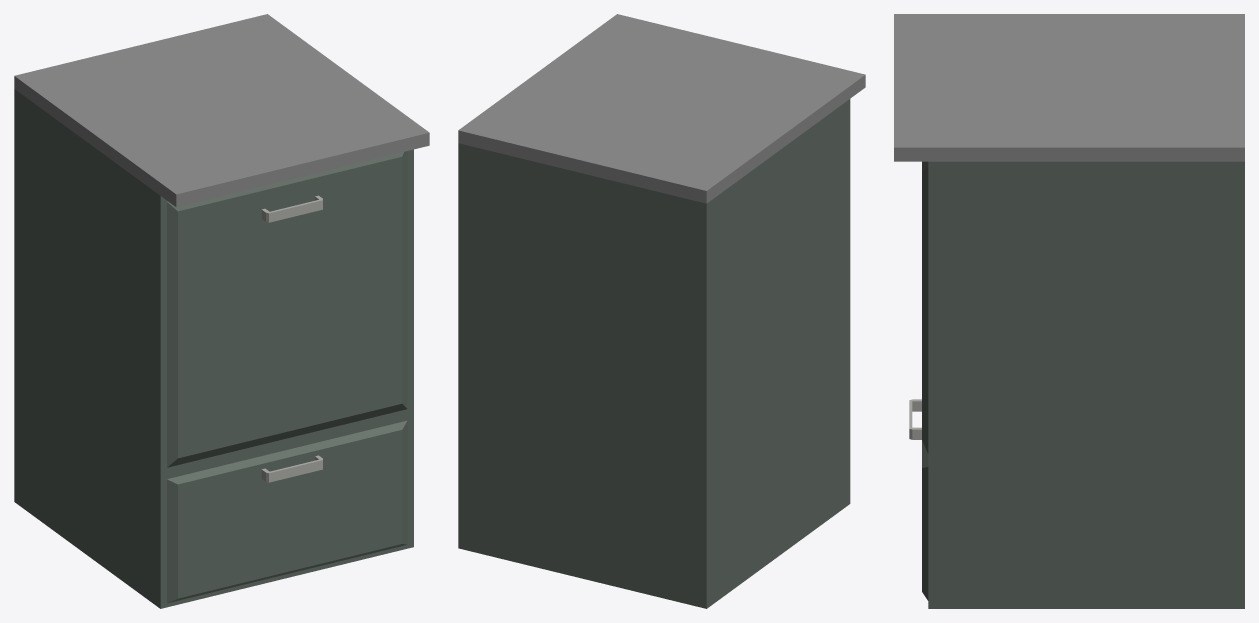
Rendered from home_kitchen_2drawers.fbx.
The picture shows the model from 3 angles, left to right: view 1: azimuth 30°, elevation 25°; view 2: azimuth 150°, elevation 25°; view 3: azimuth 270°, elevation 25°; orthographic projection. The views are drawn at different scales.
Parts seen in each view (by area): view 1: home_kitchen_2drawers; view 2: home_kitchen_2drawers; view 3: home_kitchen_2drawers.
Boxes of the visible parts, x1,y1,x2,y2 form: home_kitchen_2drawers: (14,14,429,608); home_kitchen_2drawers: (458,14,865,608); home_kitchen_2drawers: (894,14,1244,608).
Size of the model in its own units: 0.5911 by 0.95 by 0.6552.
